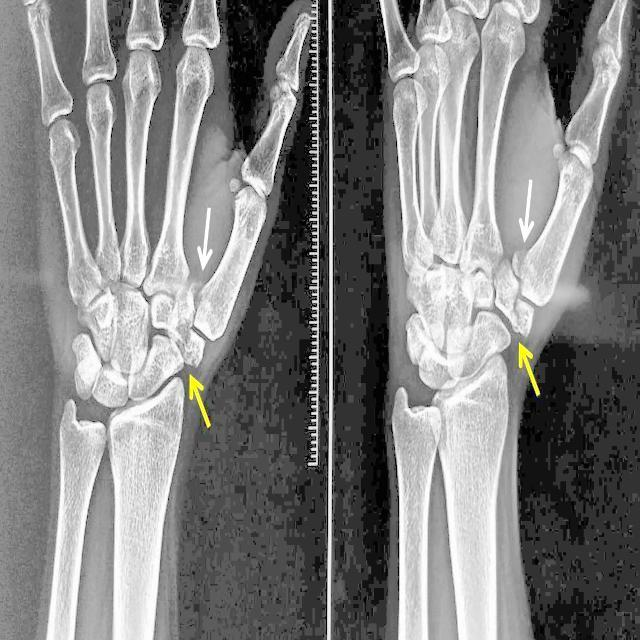Fracture Dislocation: (488, 247, 536, 343), (172, 274, 211, 372)
